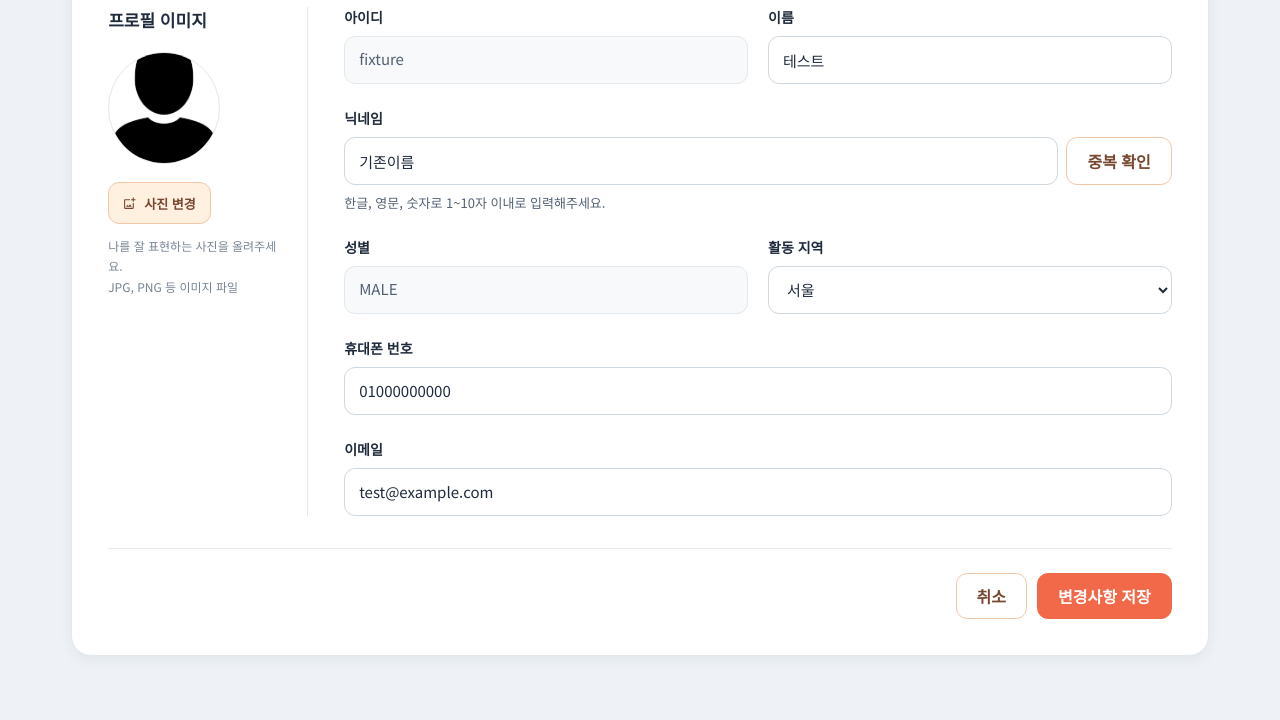
it: profile blocks save when unchanged or nickname unchecked (false)
(page scrolled)
Click the button "변경사항 저장" at (1104, 596), box [1037,573,1172,619]
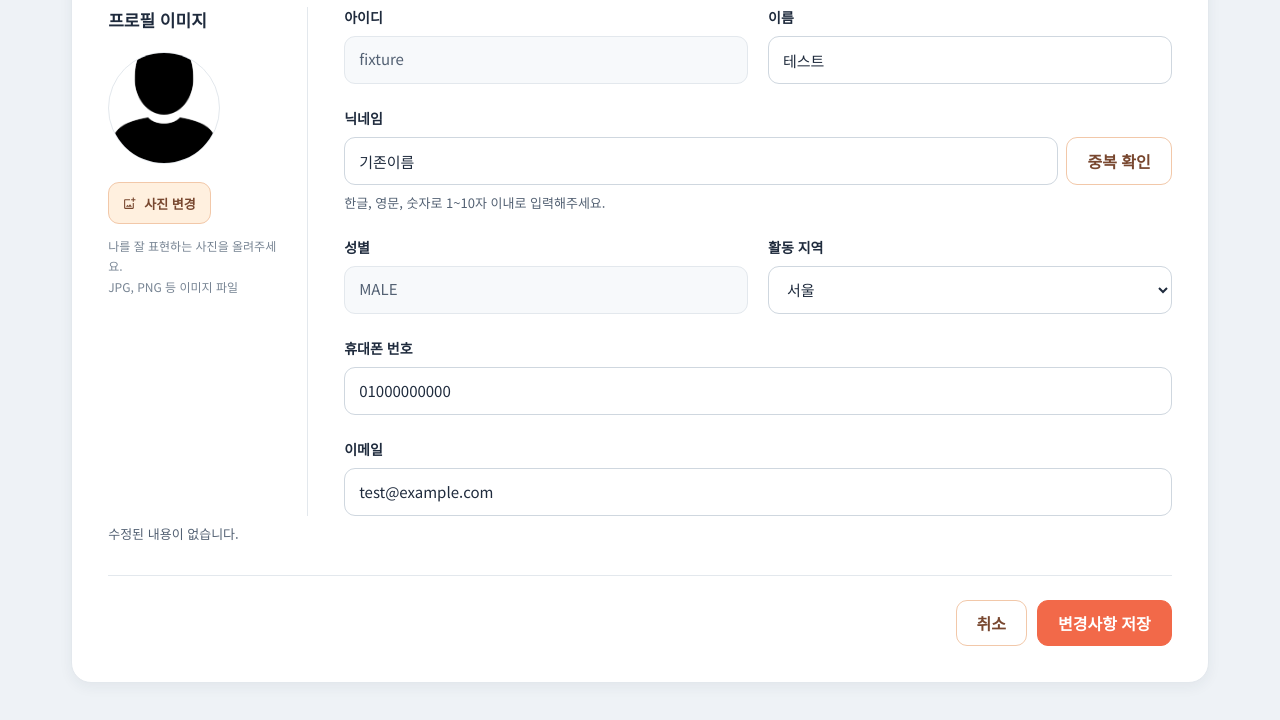
Now the message shows "수정된 내용", box [108,524,239,543]
